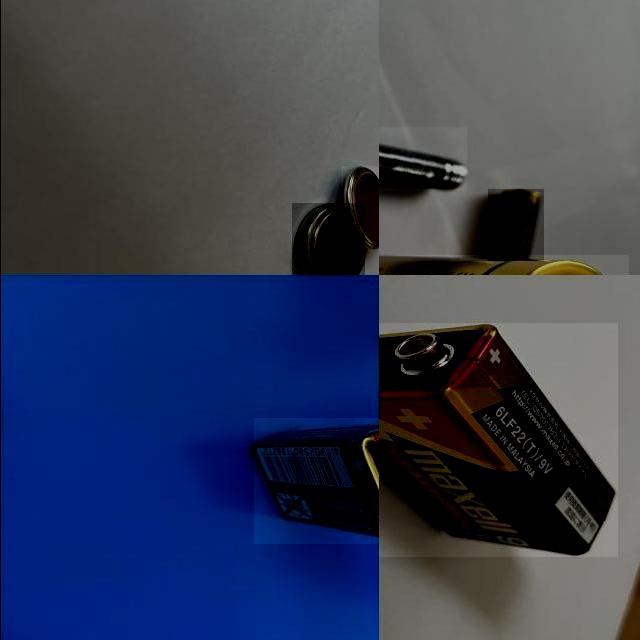9V: (378, 323, 617, 557), (253, 418, 378, 544)
